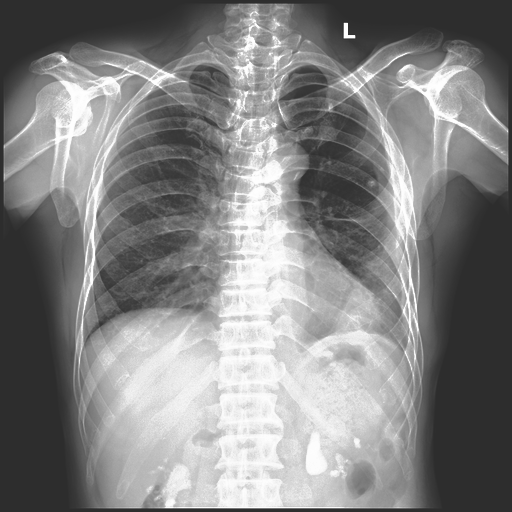Calcification: (399, 343, 418, 374)
Consolidation: (269, 142, 310, 182)
Lung Opacity: (367, 179, 376, 187), (327, 101, 333, 112)
Nodule/Mass: (199, 283, 387, 335)
Pleural effusion: (399, 343, 418, 374)
Pleural thickening: (351, 216, 405, 337)
Pneumothorax: (329, 175, 390, 255), (323, 208, 379, 224)
Pulmonary fibrosis: (328, 101, 334, 114)
